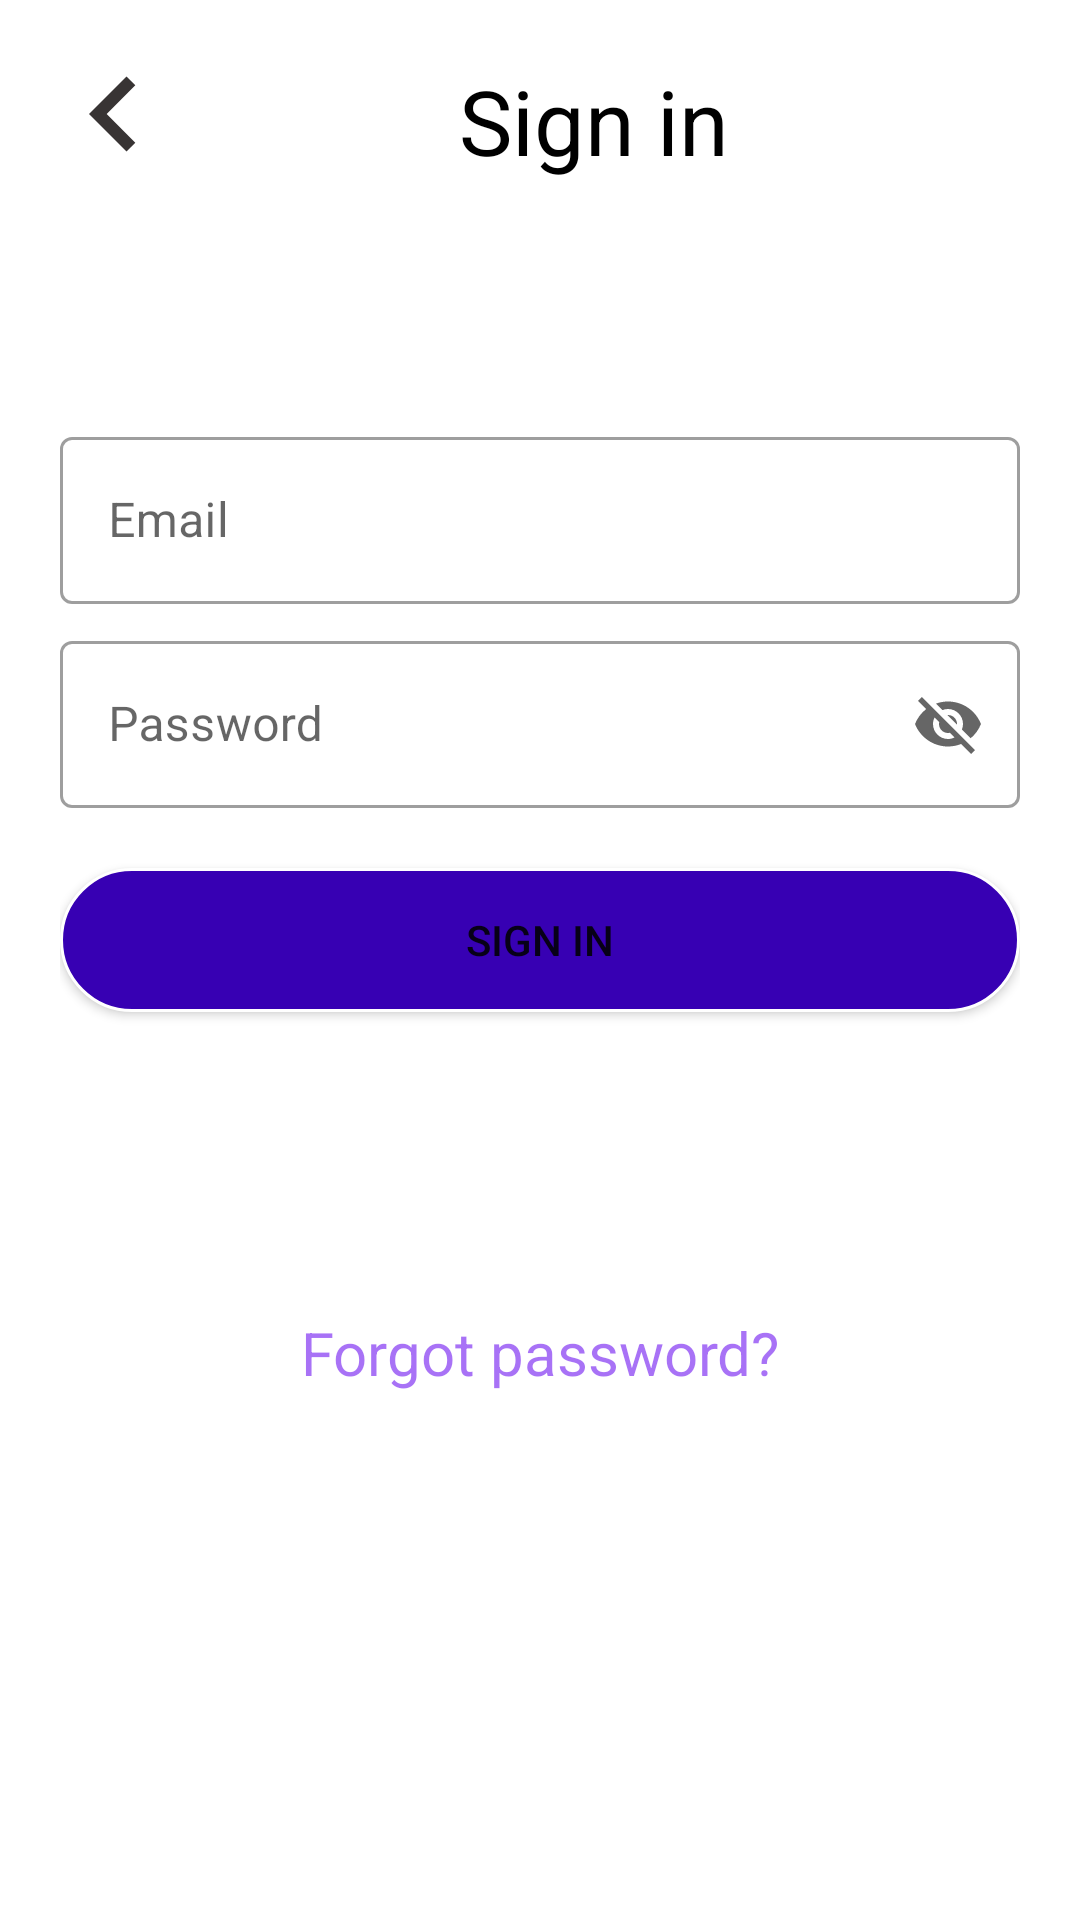

Screen size 1080 x 1920. Icon name, then its center in pixels as (x=x, y=y):
atras: (x=112, y=114)
